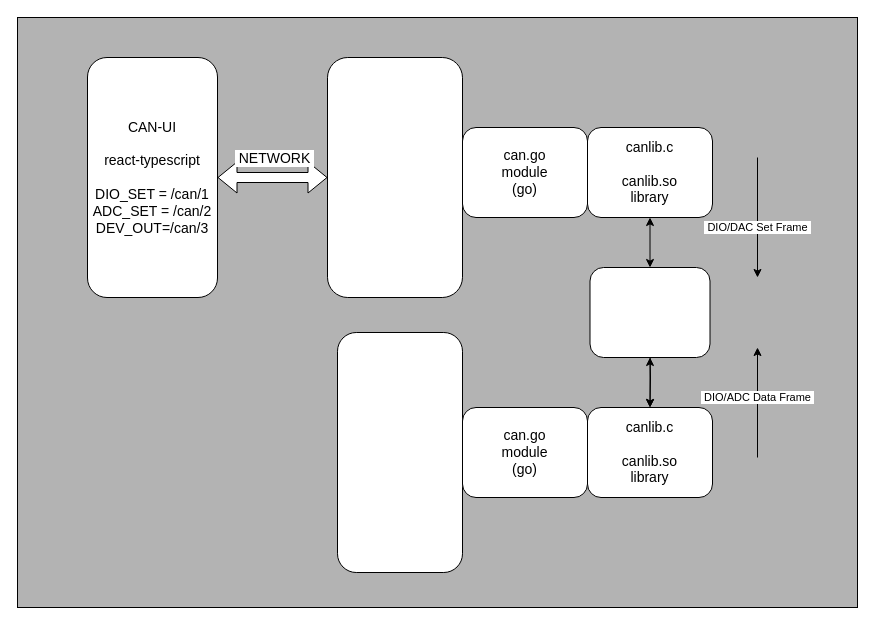
The diagram is 875 pixels wide and 625 high, and some of its shapes have lost their labels. The shapes that lost their labels are listed below. From the top down, each one's centre as x and y in pixels, then its label:
At (394,177): "API (go) DIO_SET=/can/1 DAC_SET=/can/2 DEV_OUT=/can/3".
At (649,312): "Linux VCAN (CAN Bus)".
At (399,452): "DEVICE (go)".
